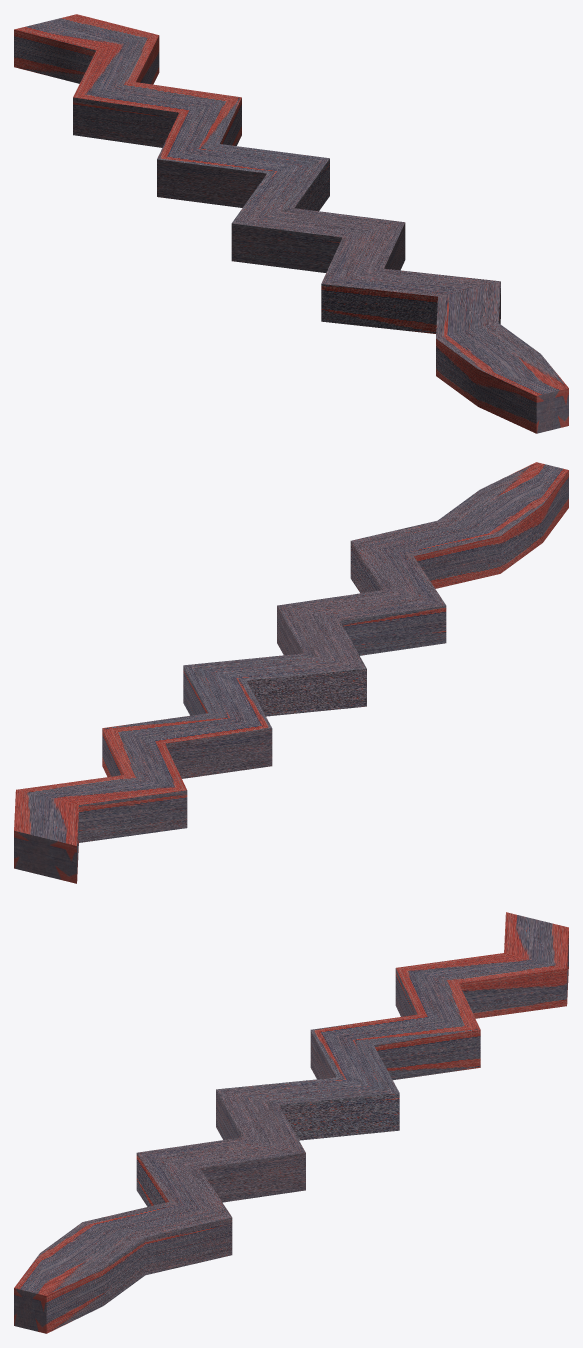
Rendered from snake.FBX.
The picture shows the model from 3 angles, top to bottom: view 1: azimuth 30°, elevation 25°; view 2: azimuth 150°, elevation 25°; view 3: azimuth 330°, elevation 25°; orthographic projection.
Visible parts, largest first — view 1: Box001; view 2: Box001; view 3: Box001.
Boxes of the visible parts, x1,y1,x2,y2 form: Box001: [14, 14, 568, 433]; Box001: [14, 462, 568, 883]; Box001: [14, 912, 568, 1333].
Bounding box in the file's own units: 21.4 × 131 × 5.4.
